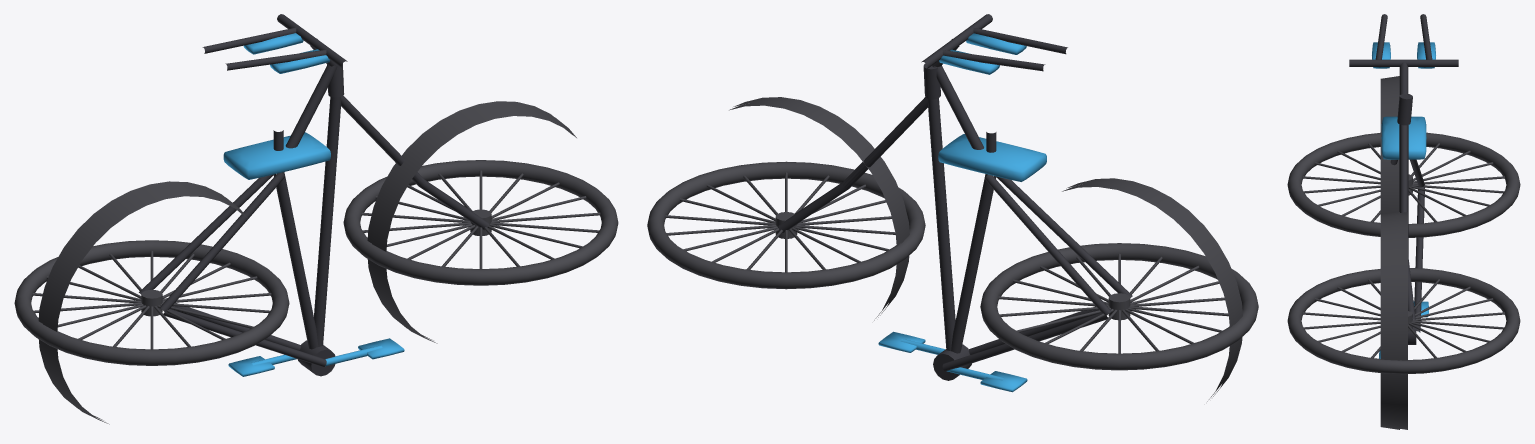
Rendered from bike-aero.glb.
The picture shows the model from 3 angles, left to right: view 1: azimuth 30°, elevation 25°; view 2: azimuth 150°, elevation 25°; view 3: azimuth 270°, elevation 25°; orthographic projection. The views are drawn at different scales.
Parts seen in each view (by area): view 1: wheelFront, wheelRear, frame, crank; view 2: frame, wheelFront, wheelRear, crank; view 3: wheelFront, wheelRear, frame.
Part boxes in pixels (left/top/right/bottom): wheelFront: left=343, top=101, right=618, bottom=343; wheelRear: left=14, top=181, right=289, bottom=424; frame: left=139, top=14, right=488, bottom=376; crank: left=228, top=338, right=404, bottom=376; frame: left=778, top=14, right=1132, bottom=380; wheelFront: left=647, top=97, right=925, bottom=320; wheelRear: left=980, top=178, right=1258, bottom=401; crank: left=878, top=331, right=1027, bottom=392; wheelFront: left=1287, top=212, right=1520, bottom=429; wheelRear: left=1287, top=76, right=1520, bottom=237; frame: left=1349, top=14, right=1458, bottom=344.
Size of the model in its own units: 1.72 by 1.01 by 0.724.
